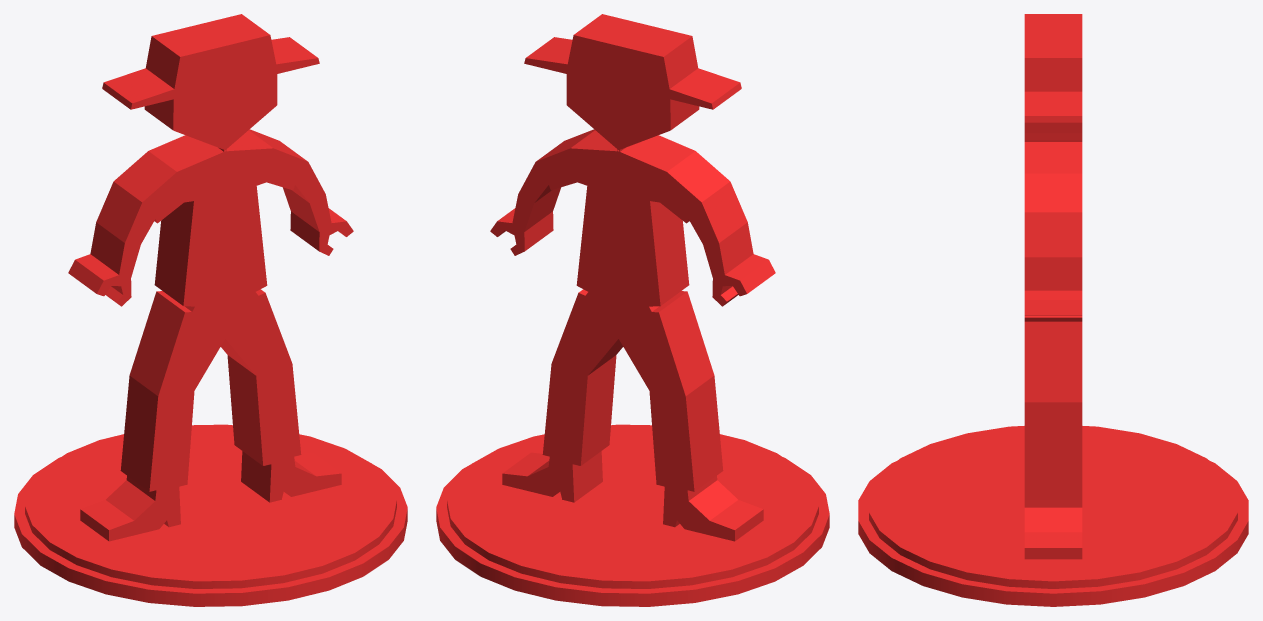
Rendered from jean.gltf.
3 views of the same model, side by side, from view 1: azimuth 30°, elevation 25°; view 2: azimuth 150°, elevation 25°; view 3: azimuth 270°, elevation 25° (orthographic).
Visible parts, largest first — view 1: gontran; view 2: gontran; view 3: gontran.
Part boxes in pixels (bbox=[...]): gontran: bbox=[14, 14, 407, 606]; gontran: bbox=[436, 14, 829, 606]; gontran: bbox=[858, 14, 1248, 606].
Size of the model in its own units: 0.6339 by 0.8675 by 0.6292.
